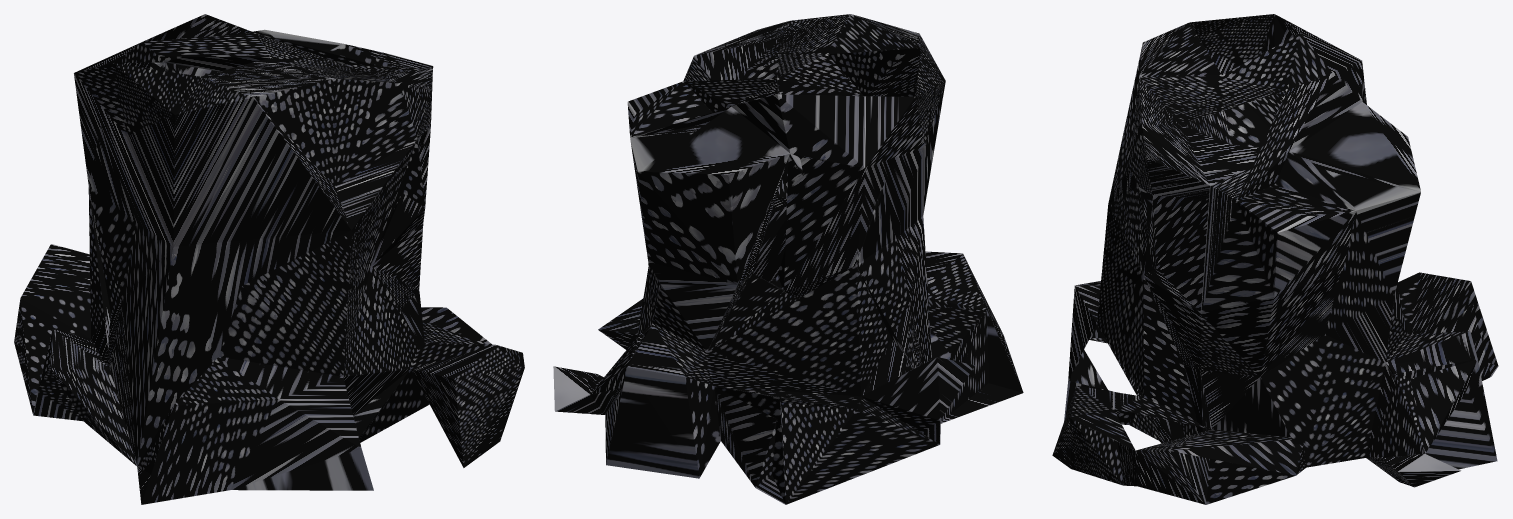
Rendered from cliff_rock_lod2.glb.
The picture shows the model from 3 angles, left to right: view 1: azimuth 30°, elevation 25°; view 2: azimuth 150°, elevation 25°; view 3: azimuth 270°, elevation 25°; orthographic projection. The views are drawn at different scales.
Parts seen in each view (by area): view 1: geometry_0; view 2: geometry_0; view 3: geometry_0.
Boxes of the visible parts, left/top/right/bottom form: geometry_0: left=14, top=14, right=524, bottom=504; geometry_0: left=553, top=14, right=1023, bottom=504; geometry_0: left=1052, top=14, right=1498, bottom=504.
Bounding box in the file's own units: 3.75 × 3.47 × 3.87.
Materials: 1 (1 with a texture image).
